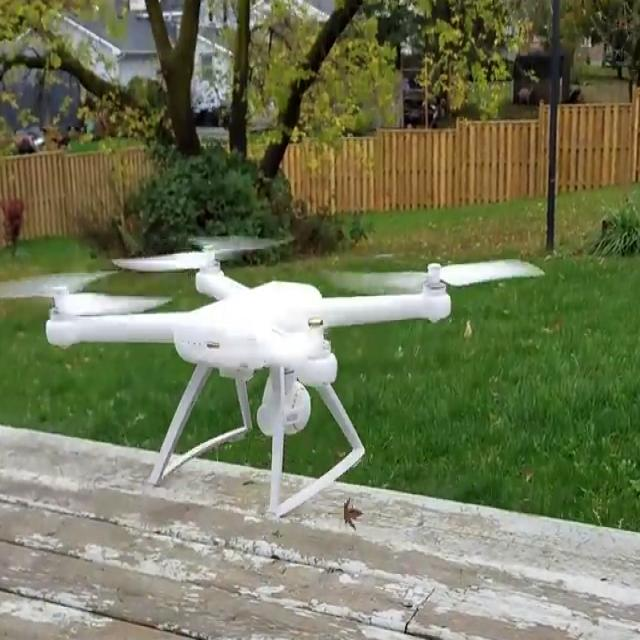drone: (0, 215, 566, 422)
